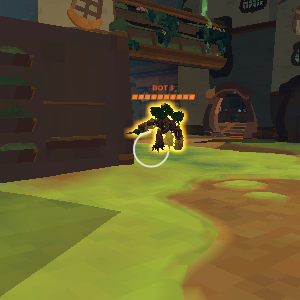model: (147, 102, 181, 151)
